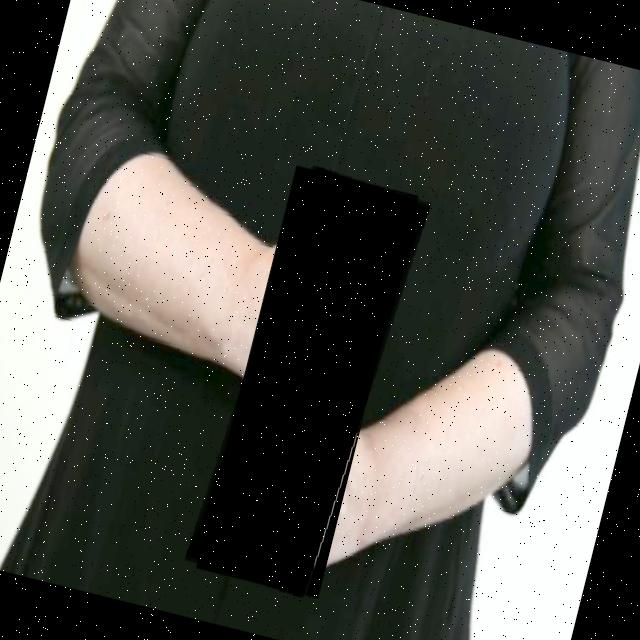G: (190, 163, 427, 604)
